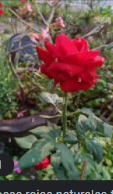RedRose: (35, 31, 104, 102)
